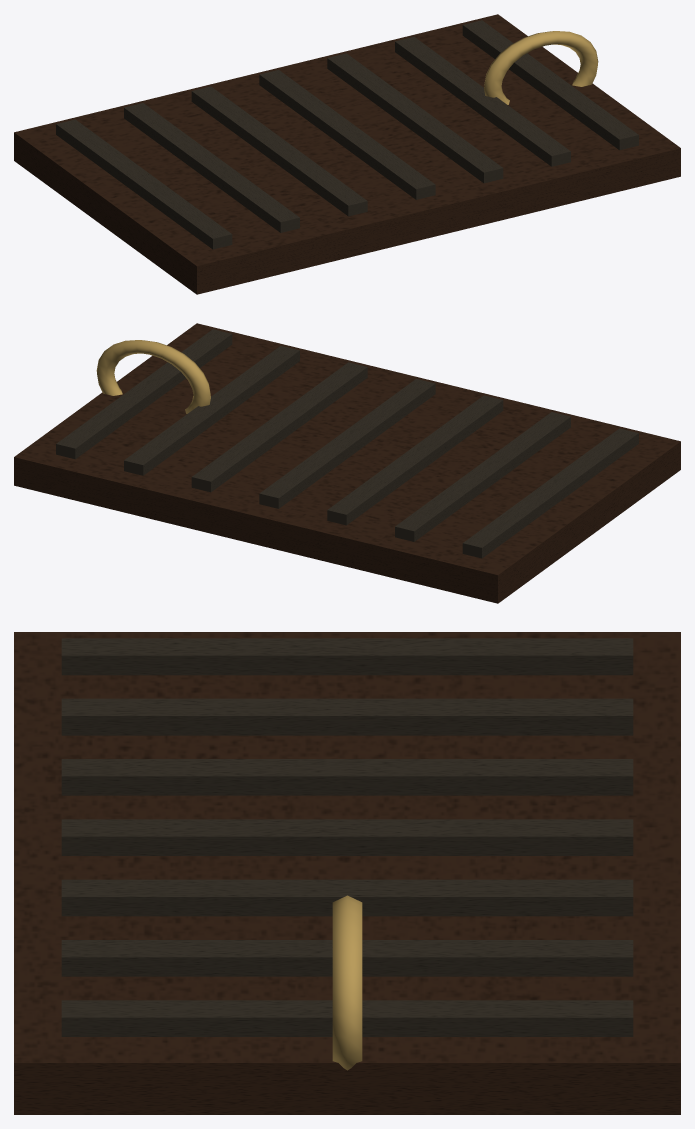
The picture shows the model from 3 angles, top to bottom: view 1: azimuth 30°, elevation 25°; view 2: azimuth 150°, elevation 25°; view 3: azimuth 270°, elevation 25°; orthographic projection. The views are drawn at different scales.
Visible parts, largest first — view 1: c-hatch; view 2: c-hatch; view 3: c-hatch.
Part boxes in pixels (x1,y1,x2,y2): c-hatch: [14, 14, 680, 294]; c-hatch: [14, 323, 680, 603]; c-hatch: [14, 632, 680, 1114].
Size of the model in its own units: 0.7 by 0.12 by 0.45.
Materials: 3 (2 with a texture image).
